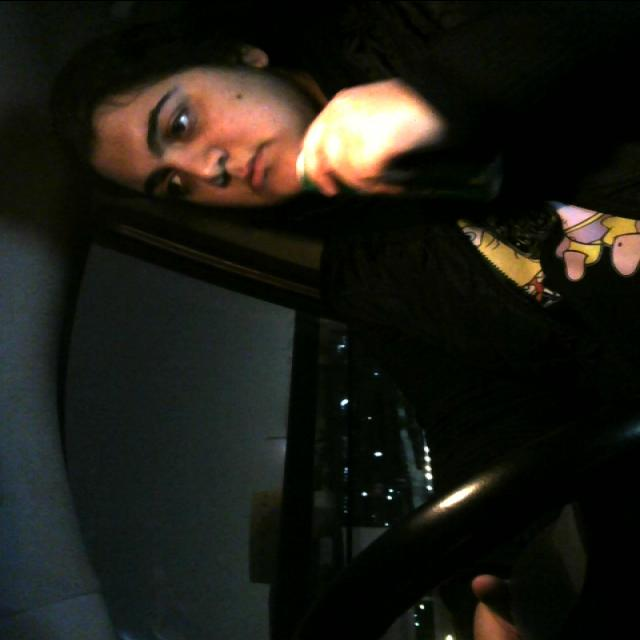drinking: (287, 138, 503, 214)
